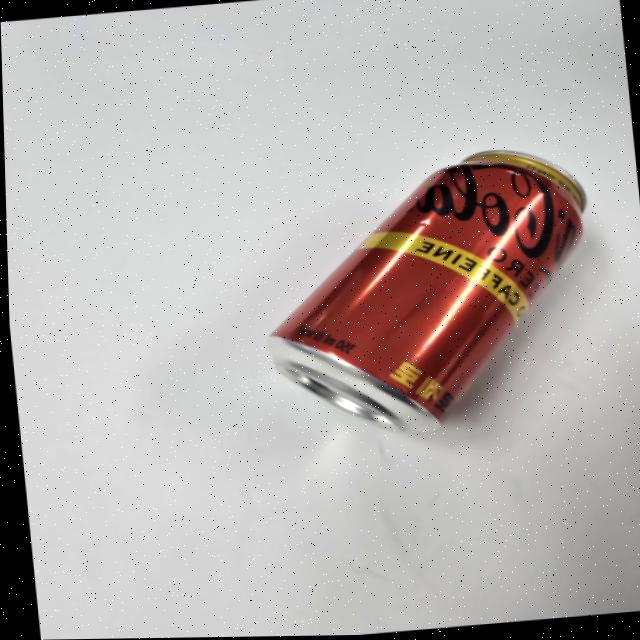can_coke_decaf: (268, 150, 585, 431)
